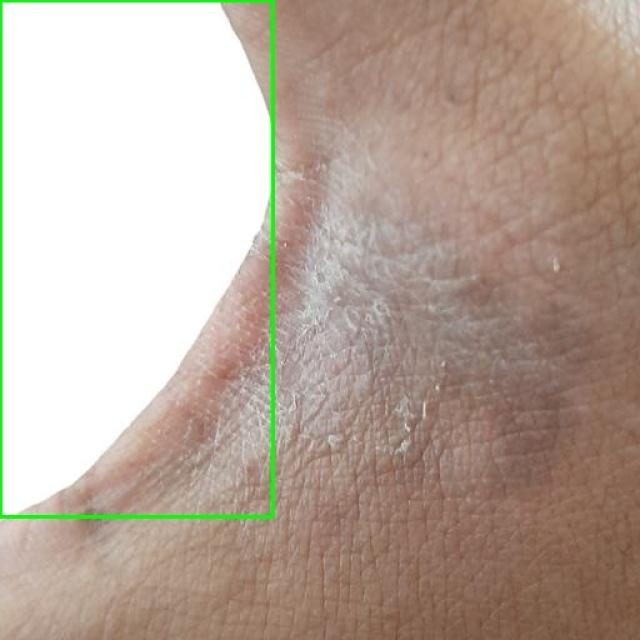Scabies: (0, 0, 272, 516)
